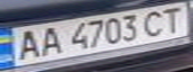0: (103, 15, 127, 45)
3: (118, 11, 145, 42)
4: (66, 19, 90, 52)
7: (84, 17, 109, 48)
A: (9, 27, 45, 62), (33, 24, 66, 57)
C: (139, 7, 172, 37)
T: (157, 3, 190, 34)
